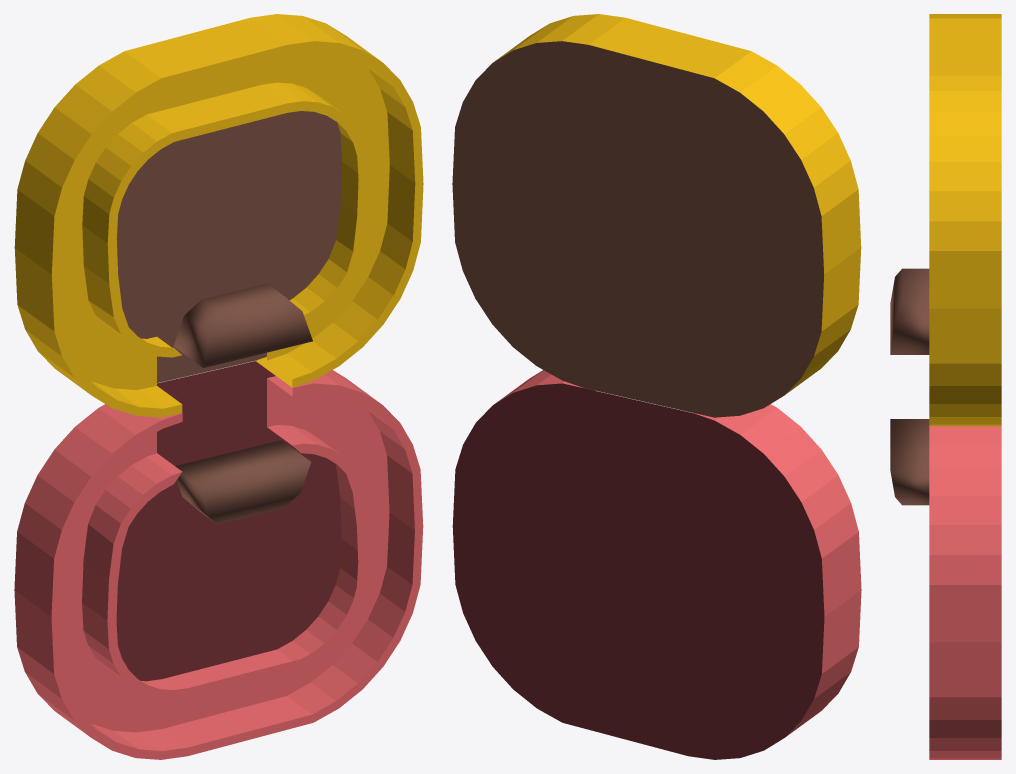
Rendered from TeddyBearCont.fbx.
The picture shows the model from 3 angles, left to right: view 1: azimuth 30°, elevation 25°; view 2: azimuth 150°, elevation 25°; view 3: azimuth 270°, elevation 25°; orthographic projection. The views are drawn at different scales.
Visible parts, largest first — view 1: RedCont, RedCont.001, RedePush.001, RedePush; view 2: RedCont.001, RedCont; view 3: RedCont.001, RedCont, RedePush, RedePush.001.
Part boxes in pixels (x1,y1,x2,y2): RedCont: (14, 361, 423, 759); RedCont.001: (14, 14, 423, 417); RedePush.001: (173, 283, 312, 367); RedePush: (175, 440, 311, 524); RedCont.001: (452, 14, 861, 417); RedCont: (452, 370, 861, 759); RedCont.001: (929, 14, 1001, 426); RedCont: (929, 426, 1001, 759); RedePush: (890, 419, 929, 505); RedePush.001: (890, 268, 929, 354).
Size of the model in its own units: 145 by 256 by 38.44.
